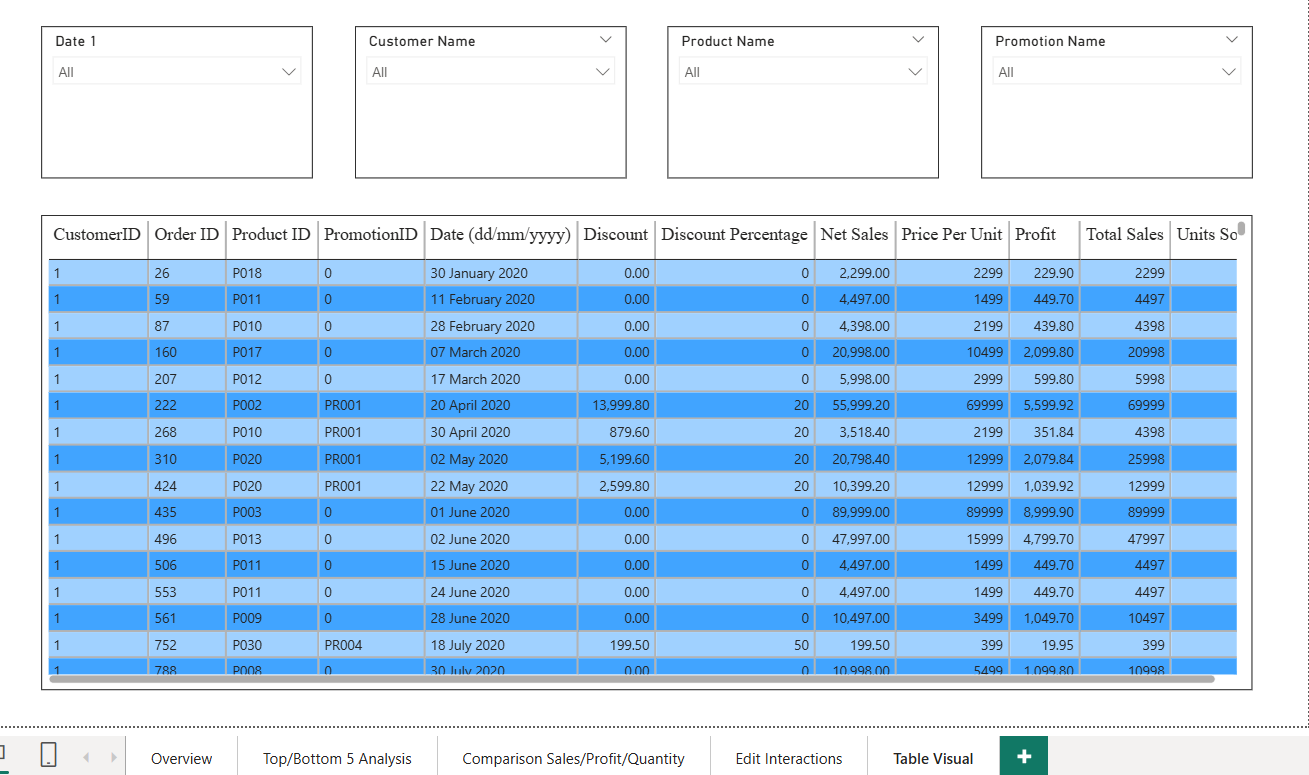

What the dashboard file says about the page in this screenshot:
{"tool":"powerbi","page":{"name":"Table Visual","canvas":[1280,720],"ordinal":4},"visuals":[{"type":"tableEx","fields":{"Values":["Fact Table.CustomerID","Fact Table.Order ID","Fact Table.Product ID","Fact Table.PromotionID","Fact Table.Date (dd/mm/yyyy)","Fact Table.Discount","Fact Table.Discount Percentage","Fact Table.Net Sales","Fact Table.Price Per Unit","Fact Table.Profit","Fact Table.Total Sales ","Fact Table.Units Sold"]},"box":[40.4,220.1,1184.9,464.7],"z":0},{"type":"slicer","fields":{"Values":["Date table 1.Date"]},"box":[40.4,35.5,265.4,149.2],"z":1000},{"type":"slicer","fields":{"Values":["Dim Customers.Customer Name"]},"box":[346.9,35.5,265.4,149.2],"z":2000},{"type":"slicer","fields":{"Values":["Dim Product.Product Name"]},"box":[653.4,35.5,265.4,149.2],"z":3000},{"type":"slicer","fields":{"Values":["Dim Promotion.Promotion Name"]},"box":[959.9,35.5,265.4,149.2],"z":4000}]}

Visuals, with their boxes on the page's 1280x720 design canvas (x1, y1, x2, y2). These are canvas units, not pixel positions in the 1309x775 screenshot, which may show the page scaled, cropped or inside an application window:
tableEx - Fact Table.CustomerID x Fact Table.Order ID: bbox=[40, 220, 1225, 685]
slicer - Date table 1.Date: bbox=[40, 36, 306, 185]
slicer - Dim Customers.Customer Name: bbox=[347, 36, 612, 185]
slicer - Dim Product.Product Name: bbox=[653, 36, 919, 185]
slicer - Dim Promotion.Promotion Name: bbox=[960, 36, 1225, 185]
